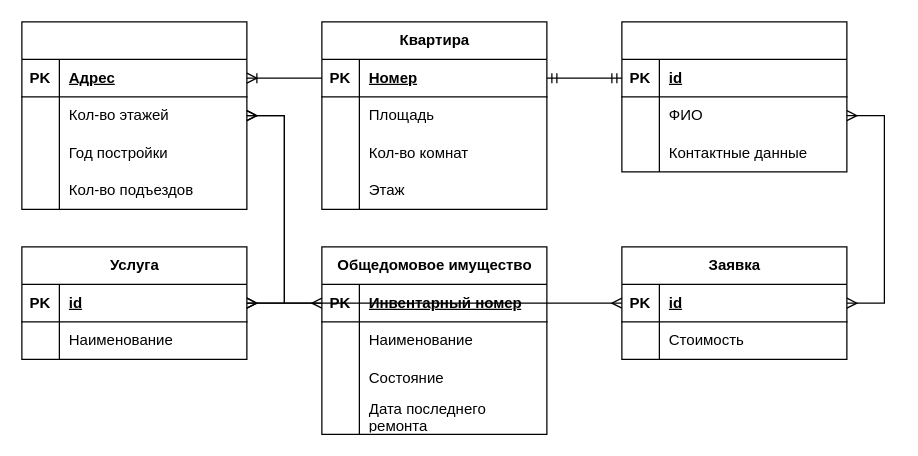
This 918x456 diagram has some shape labels left out. The box of each missing label's shape, as (x1, y1, x2, y2) in pixels:
Жилец: (621, 21, 847, 172)
Жилой дом: (21, 21, 247, 209)
